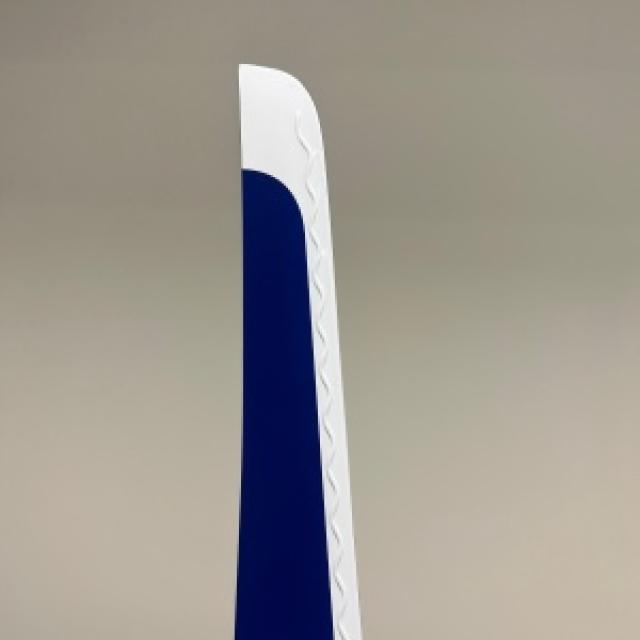healthy: (237, 64, 358, 638)
